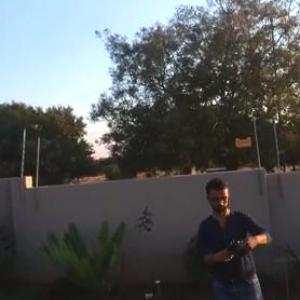follow: (193, 172, 275, 299)
